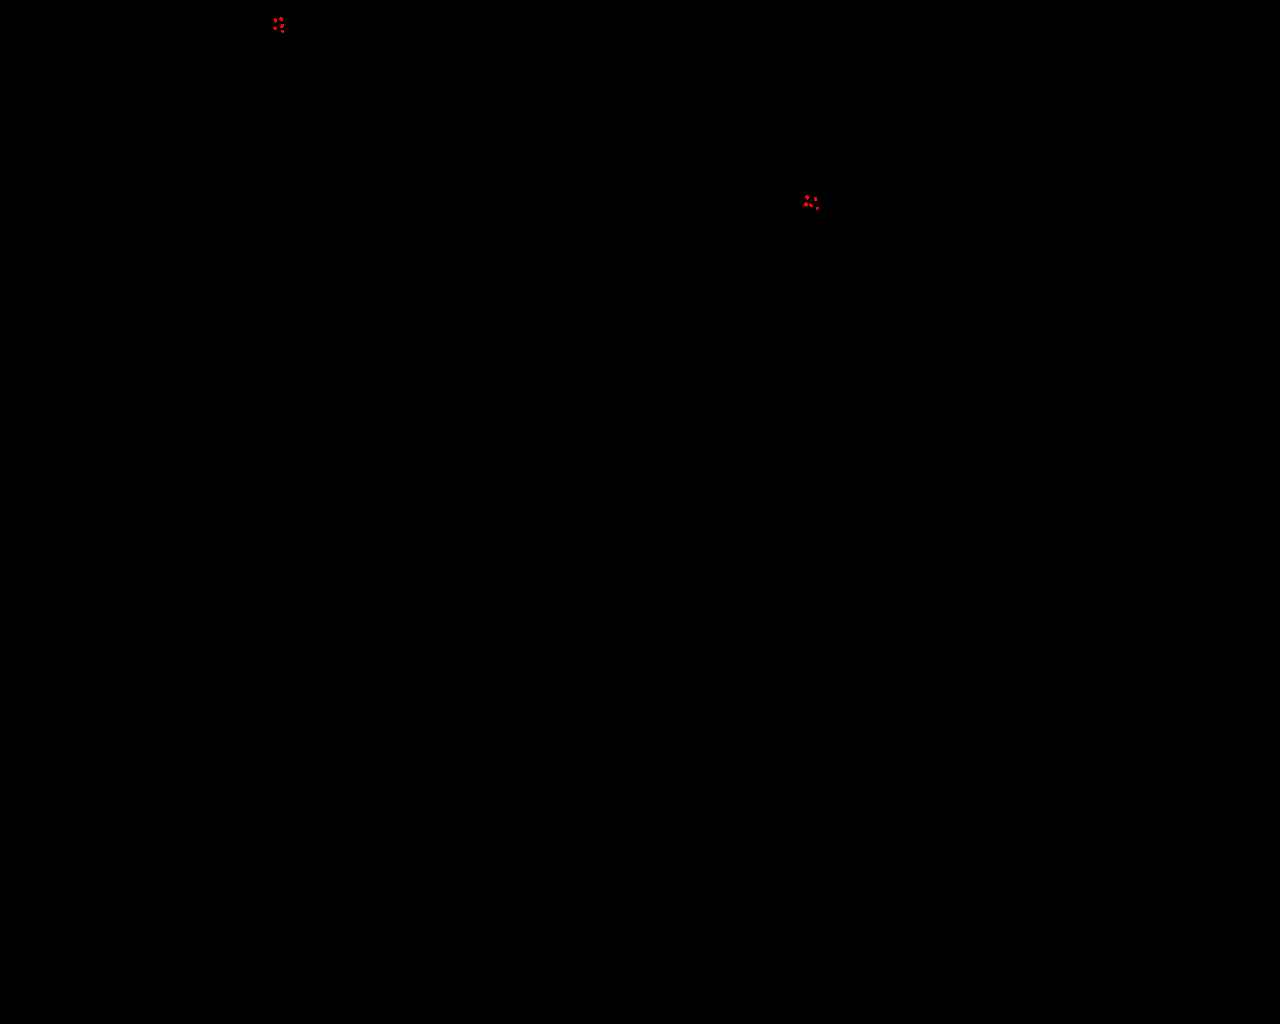Target: (804, 202, 808, 207), (279, 17, 283, 21), (280, 24, 284, 28), (805, 195, 809, 200), (809, 203, 813, 207), (274, 18, 277, 23), (273, 27, 277, 30), (281, 30, 284, 33), (814, 197, 817, 201), (816, 207, 819, 210)
